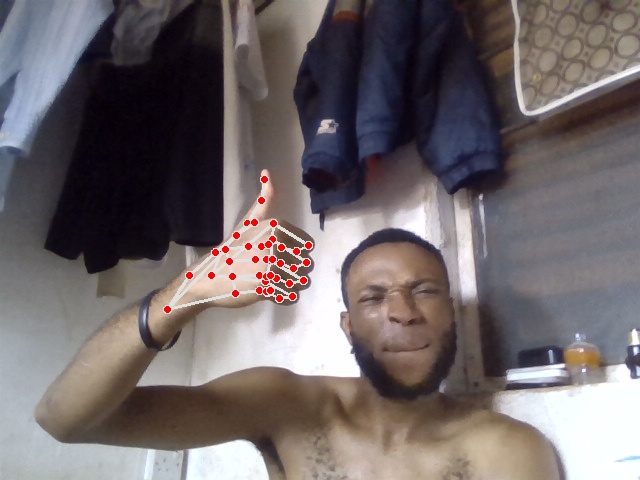thumbsup: (187, 171, 315, 308)
